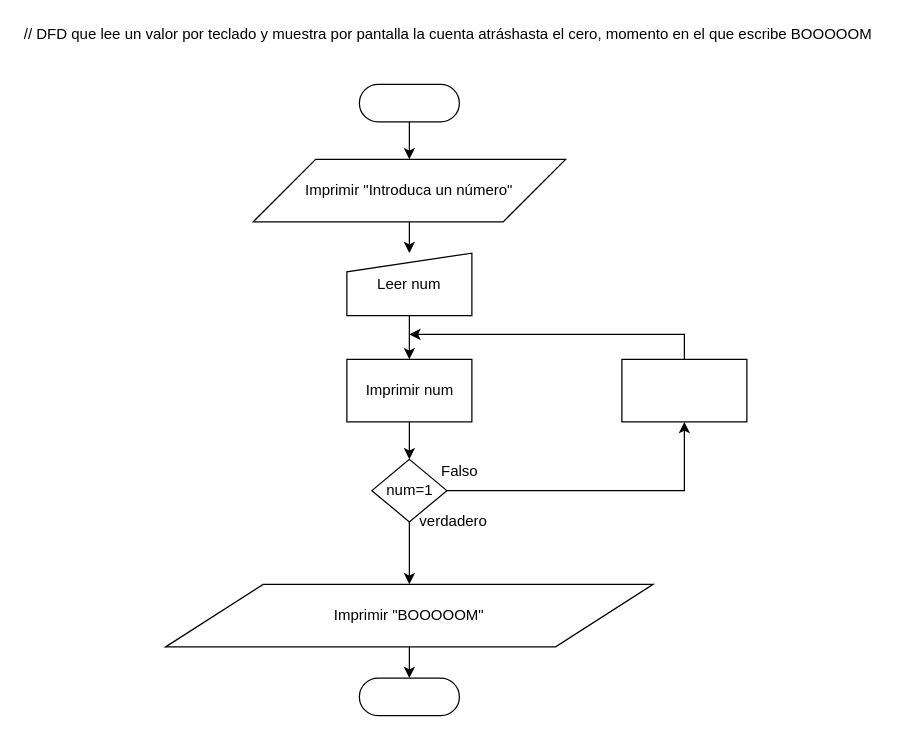
Some shapes in this 905 by 738 pixel diagram are drawn without their labels. The centre of each missing label's shape, as x and y in pixels:
Fin: the point at 408,696
Inicio: the point at 408,102
num<-num-1: the point at 684,390
